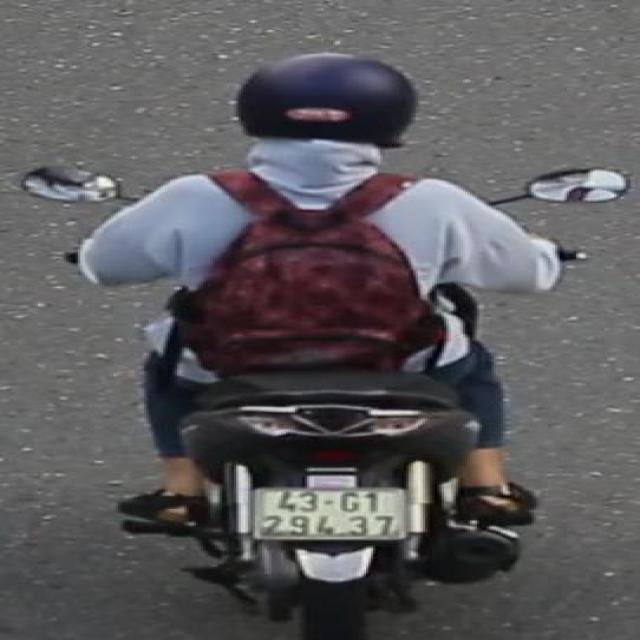LP: (246, 481, 413, 543)
helmet: (227, 47, 432, 162)
